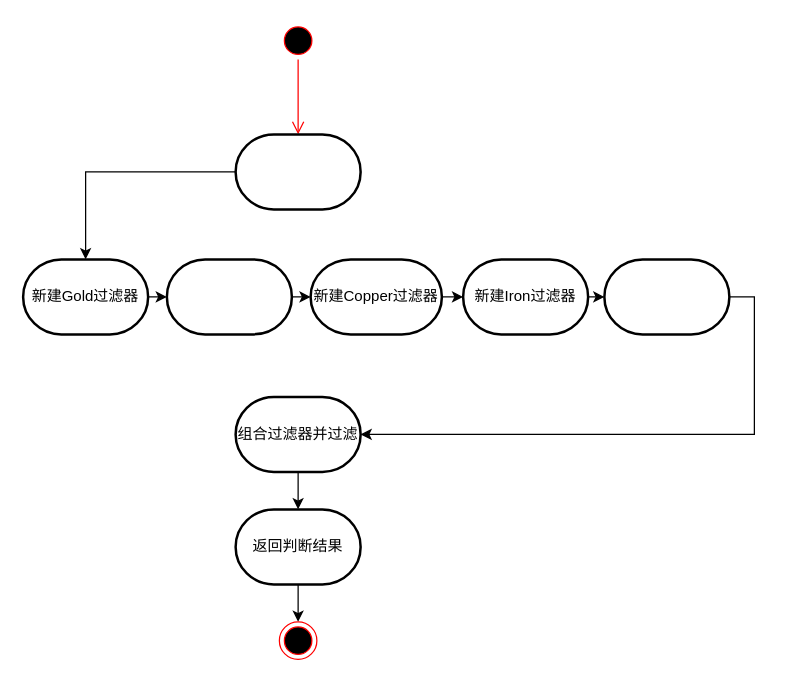
Image size: 786x681. Some labels were removed from this diagram. The centre of each missing label's shape, as x and y in pixels:
"新建Stone过滤器" belongs at (x=666, y=296).
"新建Wood过滤器" belongs at (x=228, y=296).
"新建区域时检查资源是否足够" belongs at (x=297, y=171).
